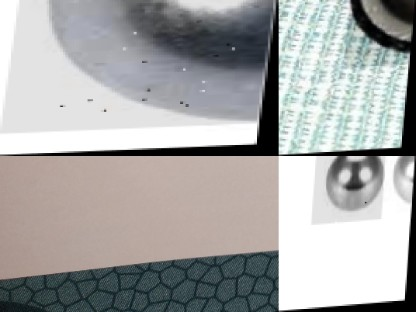ironball: (3, 0, 278, 133), (344, 0, 415, 69), (324, 156, 386, 214), (387, 156, 415, 202)
